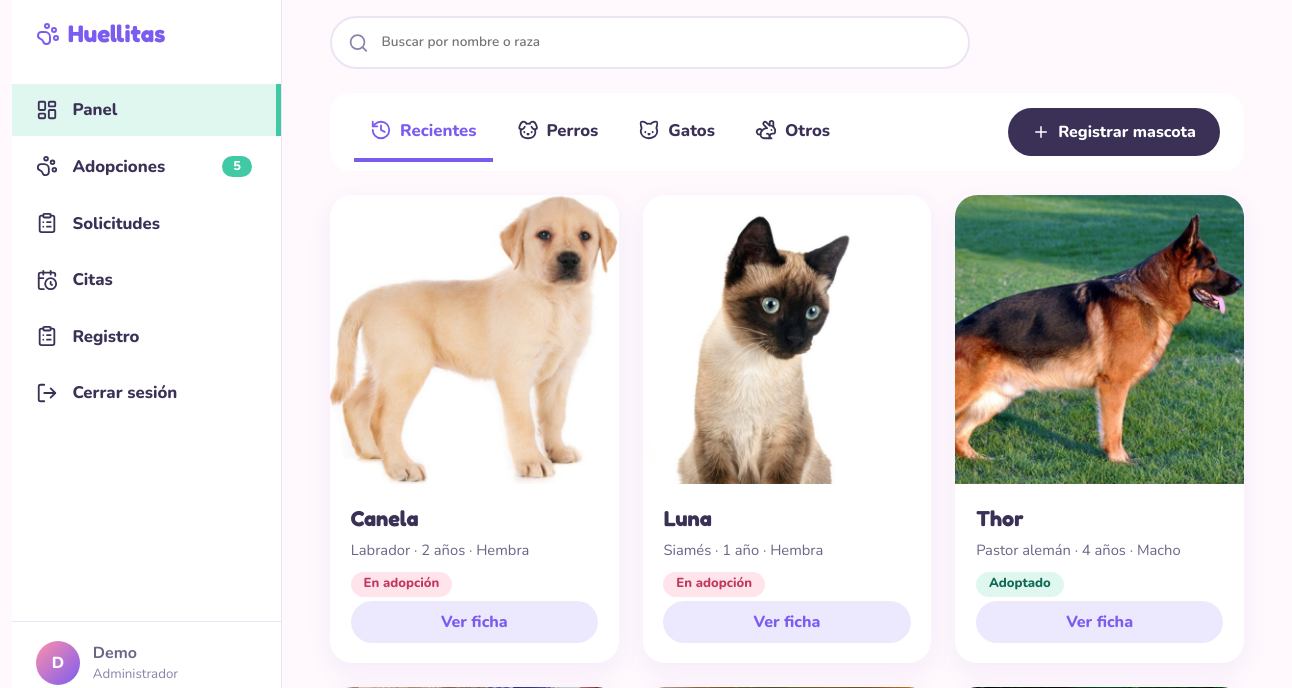
it: Solicitudes de adopción › abre el formulario de la mascota elegida
Click the button "Adopciones 5".
click(146, 166)  # box [12,141,281,192]
(page scrolled)
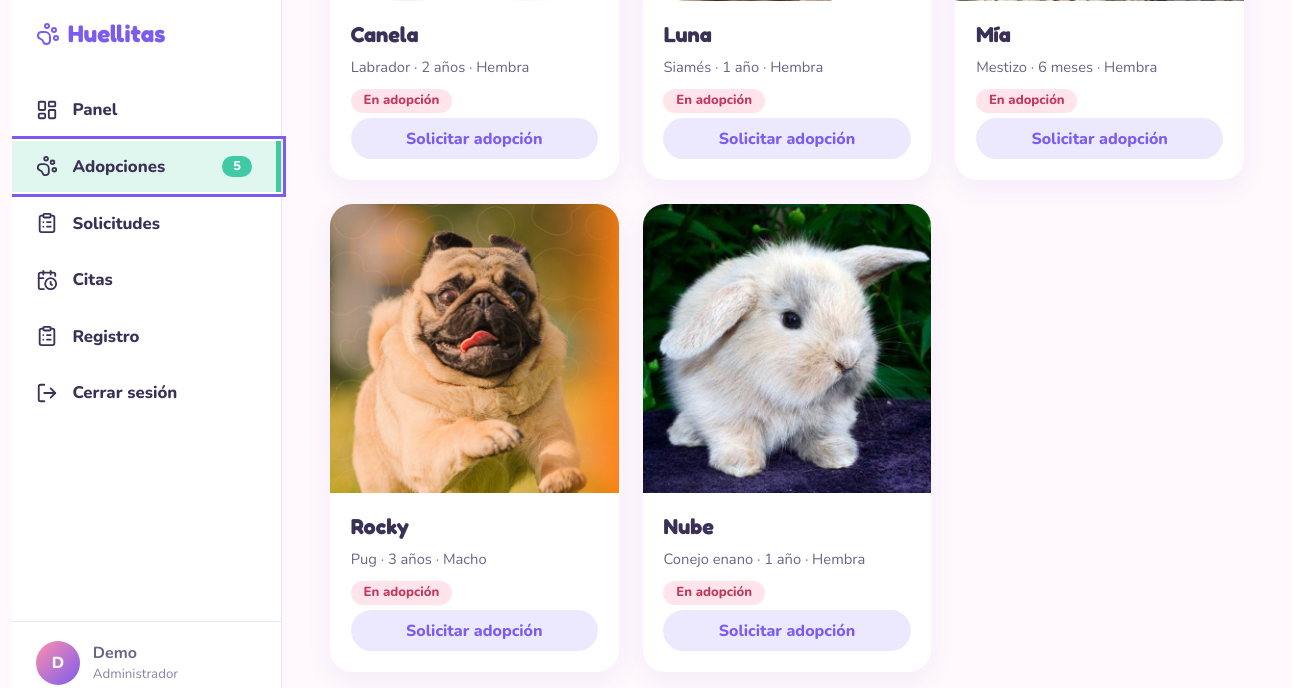
Click the button "Solicitar adopción" below "Pug".
click(474, 631)  # box [351,610,598,651]
(page scrolled)
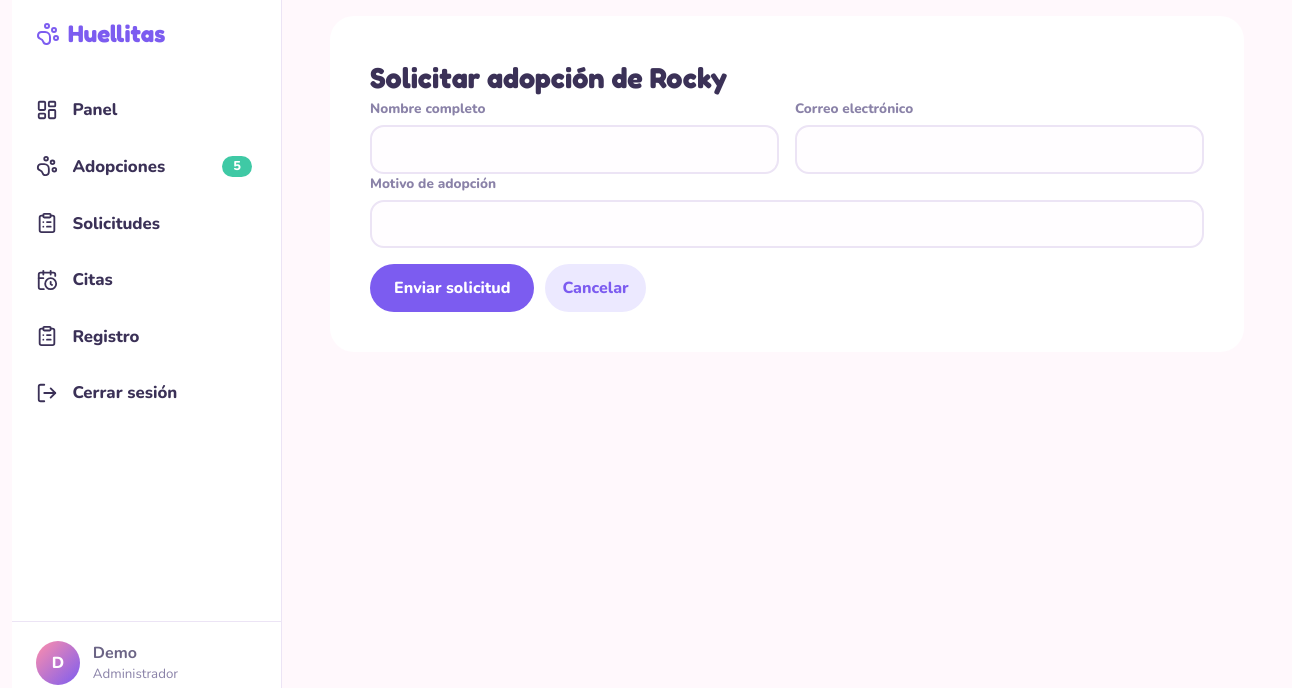
Expected: the heading "Solicitar adopción de Rocky" is shown, [370,60,727,95]
